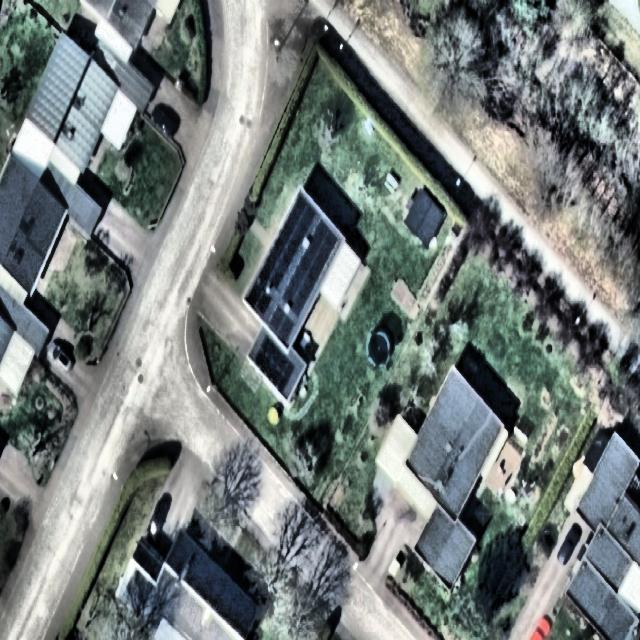roof_pv: (256, 331, 293, 392), (276, 193, 315, 248), (282, 249, 310, 313), (310, 218, 335, 285), (259, 248, 287, 284), (247, 279, 272, 312), (271, 308, 294, 340)
